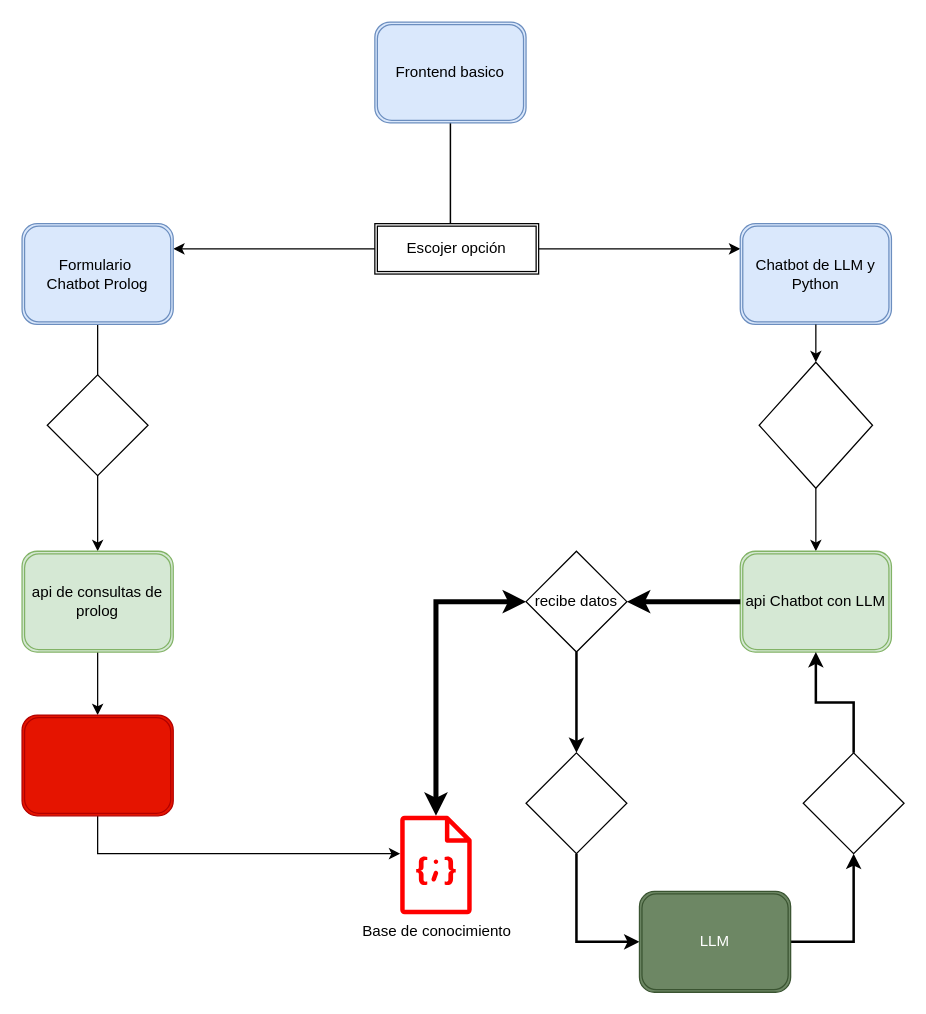
The diagram is 926 pixels wide and 1014 high, and some of its shapes have lost their labels. Each missing label, with the centre of its shape:
consulta lenguaje natural: point (815, 424)
Devuelve promt: point (853, 803)
envia consulta + datos: point (576, 803)
Prolog que contiene consultas: point (97, 765)
solo consultas estandar: point (97, 425)
